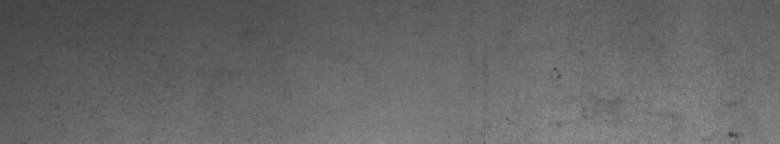ib: (506, 67, 596, 126)
